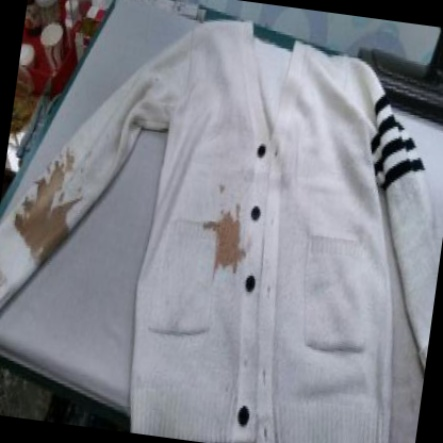coffee: (16, 197, 72, 255), (213, 216, 243, 271)
